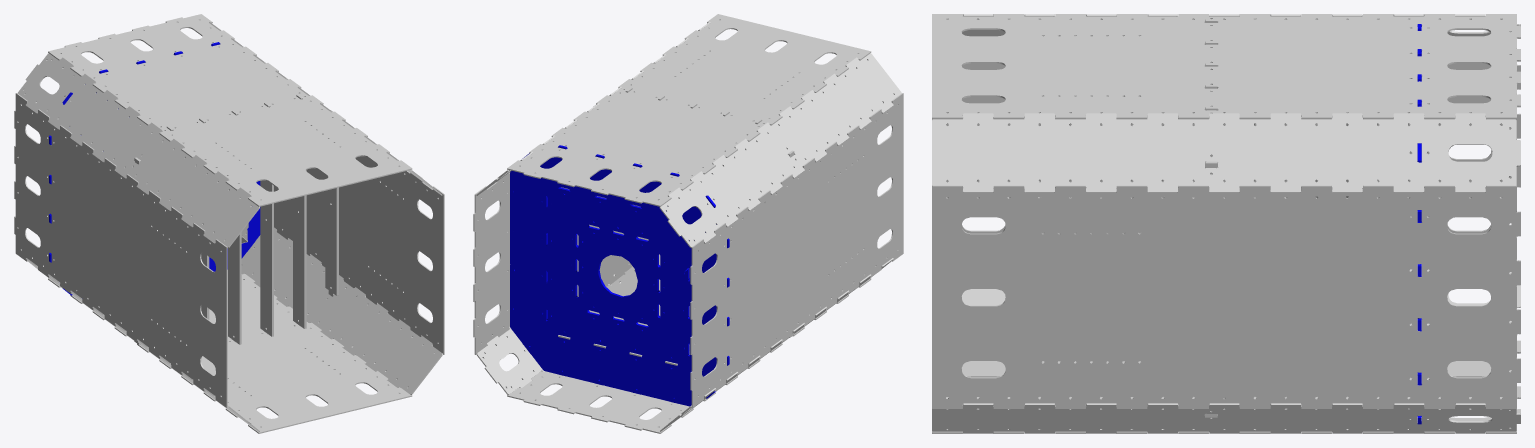
The model's file is OxygenAccumulator_FBX.fbx.
3 views of the same model, side by side, from view 1: azimuth 30°, elevation 25°; view 2: azimuth 150°, elevation 25°; view 3: azimuth 270°, elevation 25° (orthographic). The views are drawn at different scales.
Parts seen in each view (by area): view 1: Body15, Body2114, Body2099, Body2097, Body2110, Body2131, Body2098, Body19, Body2123, Body2105, Body2101, Body2120; view 2: Body2101, Body15, Body2114, Body2110, Body2099, Body2097, Body2131, Body2117, Body2151, Body2120; view 3: Body2099, Body2114, Body11, Body2131, Body2097, Body15, Body2110, Body2120, Body2101.
Boxes of the visible parts, x1,y1,x2,y2 form: Body15: (14, 93, 227, 407); Body2114: (48, 14, 412, 206); Body2099: (274, 156, 444, 354); Body2097: (48, 270, 412, 433); Body2110: (17, 53, 259, 247); Body2131: (241, 227, 442, 394); Body2098: (260, 102, 273, 336); Body19: (293, 94, 306, 328); Body2123: (325, 110, 338, 296); Body2105: (228, 110, 241, 344); Body2101: (49, 42, 260, 295); Body2120: (26, 258, 259, 431); Body2101: (510, 145, 729, 406); Body15: (690, 93, 903, 407); Body2114: (507, 14, 871, 206); Body2110: (659, 53, 901, 247); Body2099: (473, 172, 562, 354); Body2097: (507, 278, 871, 433); Body2131: (476, 274, 620, 394); Body2117: (563, 187, 648, 296); Body2151: (589, 254, 689, 350); Body2120: (660, 258, 893, 431); Body2099: (932, 185, 1520, 408); Body2114: (932, 14, 1520, 119); Body11: (932, 113, 1520, 192); Body2131: (932, 403, 1520, 433); Body2097: (932, 340, 1520, 433); Body15: (932, 52, 1520, 233); Body2110: (962, 14, 1520, 36); Body2120: (961, 264, 1520, 329); Body2101: (1417, 24, 1421, 424).
Size of the model in its own units: 55.71 by 55.71 by 92.8.
